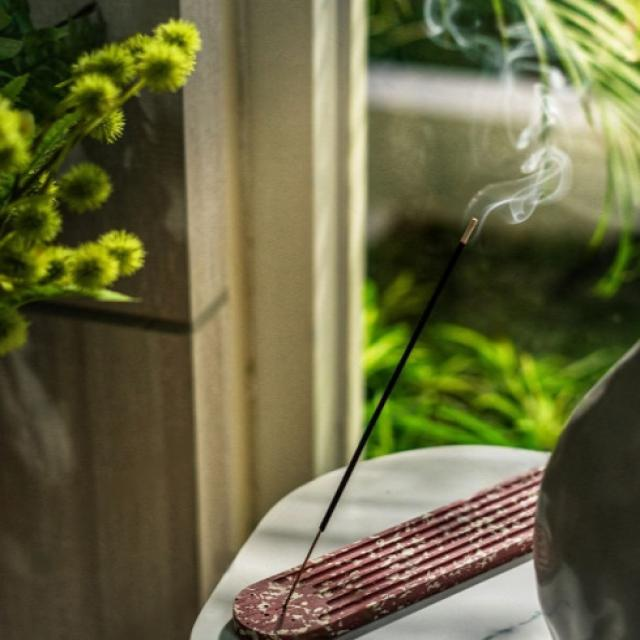Agarbatti: (268, 213, 484, 617)
